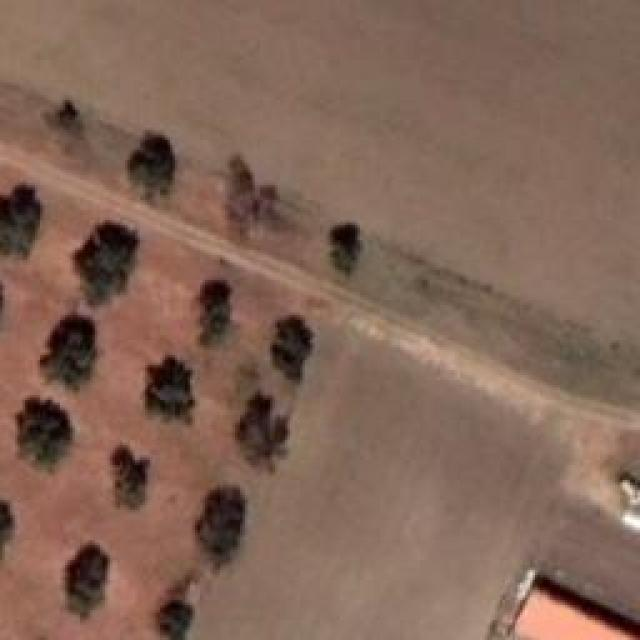Tree: (73, 223, 139, 306), (40, 315, 96, 391), (18, 398, 74, 471), (235, 394, 289, 464), (128, 132, 177, 202), (195, 488, 245, 556), (68, 542, 111, 617), (0, 185, 41, 258), (148, 355, 197, 416), (273, 315, 314, 381), (113, 445, 152, 508), (200, 280, 231, 346), (330, 223, 363, 274), (158, 600, 194, 640), (3, 500, 16, 560), (58, 100, 79, 131)
